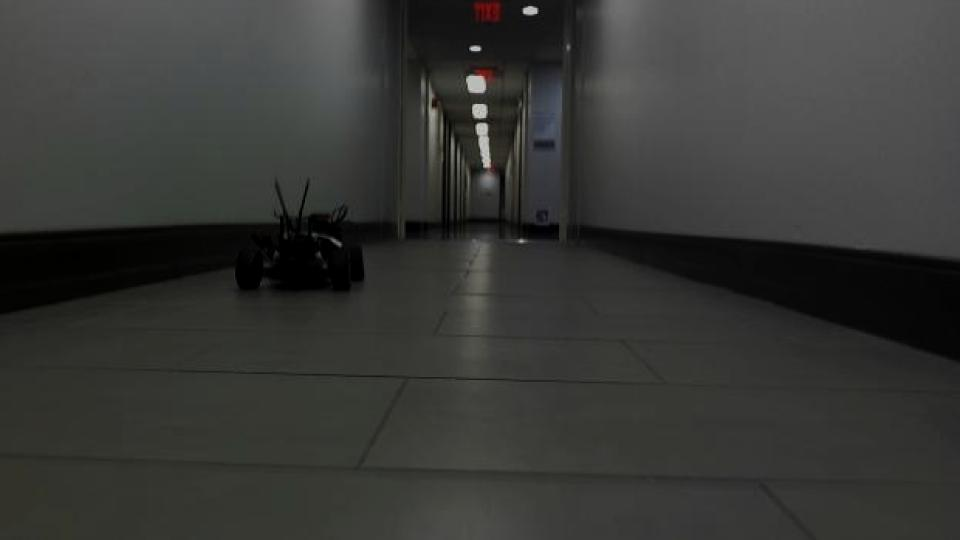car: (231, 174, 367, 295)
